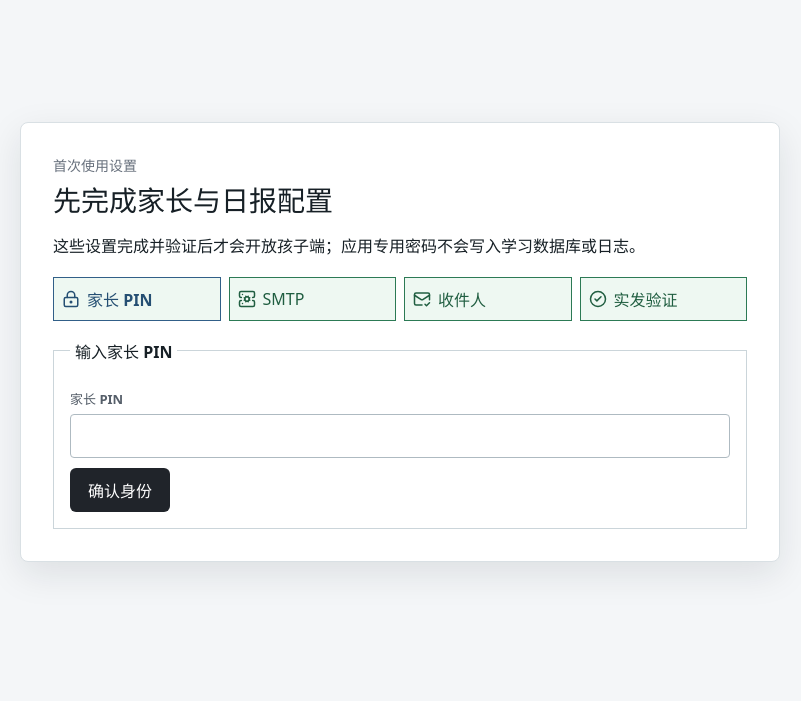
Test case: InstallationSetupWizard › returns to SMTP entry when the database configuration exists but the secure password is missing
Type "2468" into the password field named "初始化家长PIN" at {"x": 400, "y": 436}, box [70,414,730,458]
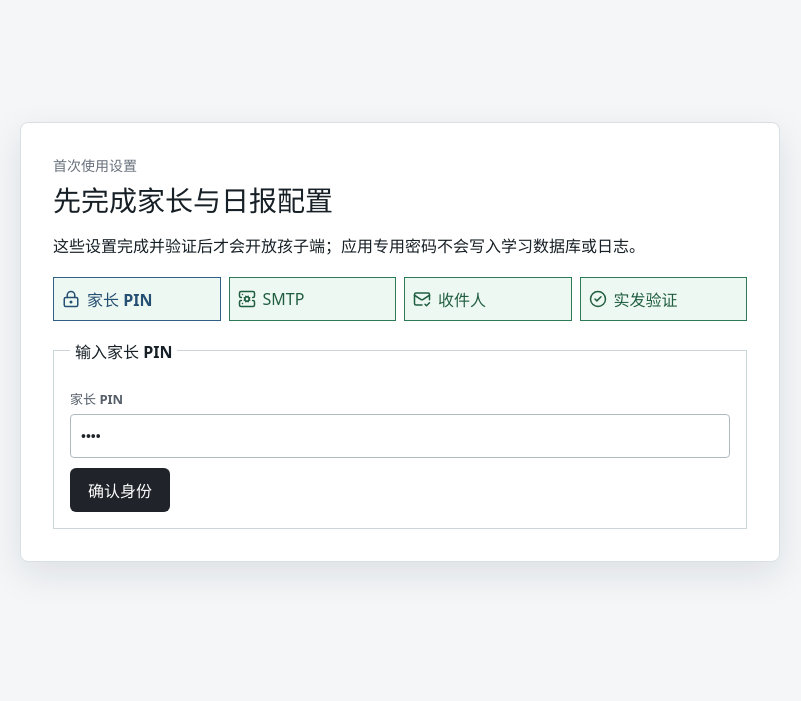
Click the button "确认身份" at {"x": 120, "y": 490}, box [70,468,170,512]
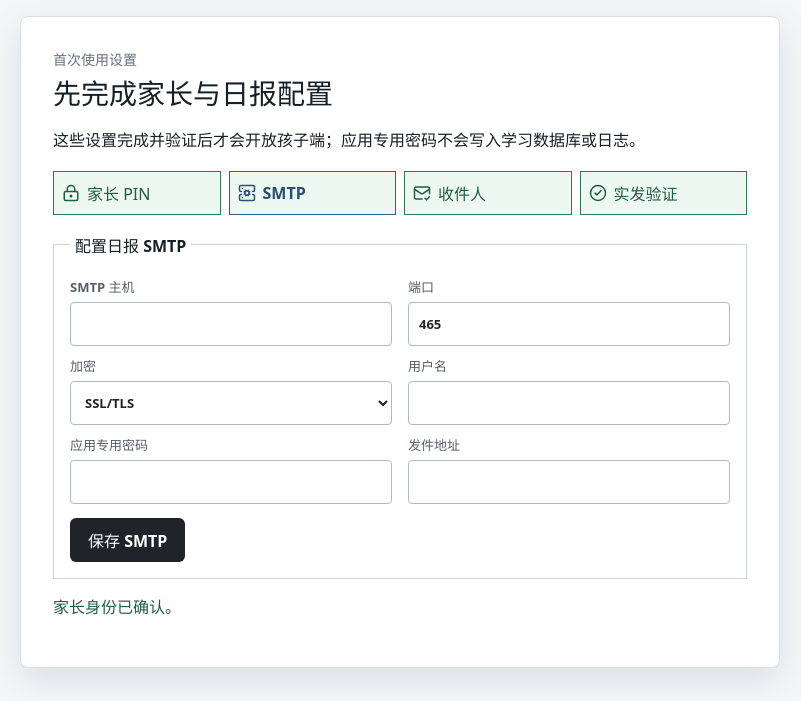
Result: the password field named "初始化SMTP密码" is shown at [70,460,392,504]
